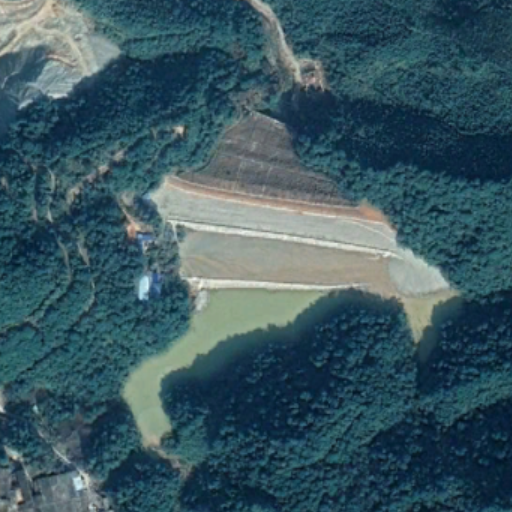tp: (124, 111, 463, 463)
